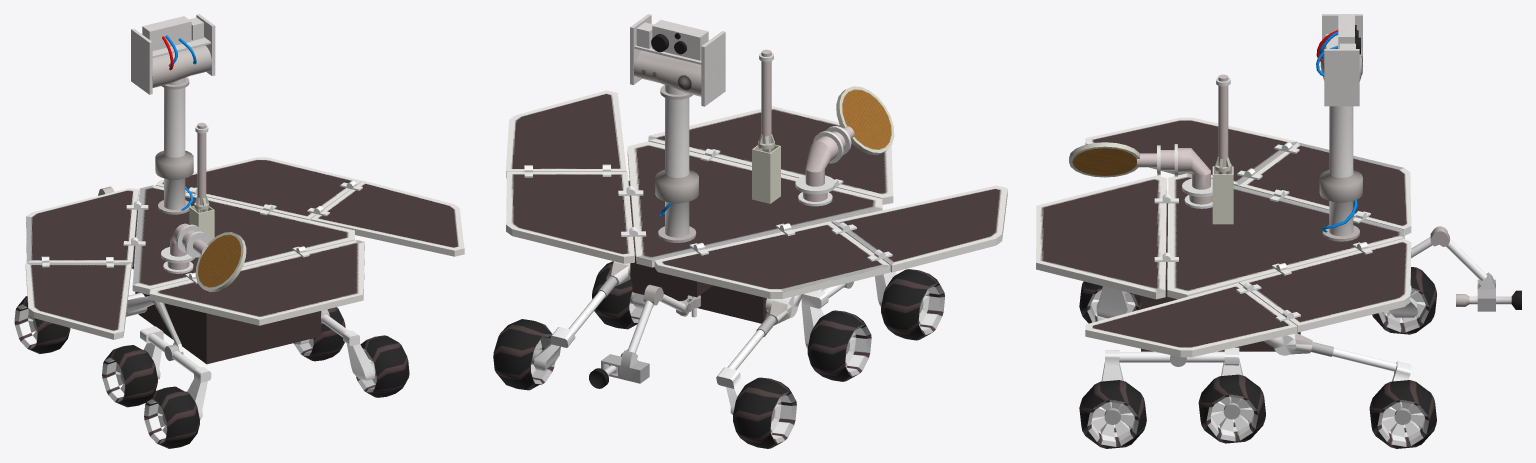
The model's file is opportunity.gltf.
3 renders of one model, left to right at view 1: azimuth 30°, elevation 25°; view 2: azimuth 150°, elevation 25°; view 3: azimuth 270°, elevation 25°, orthographic. The views are drawn at different scales.
Bounding box in the file's own units: 22.64 × 16.29 × 19.96.
2 materials, 2 textured.
